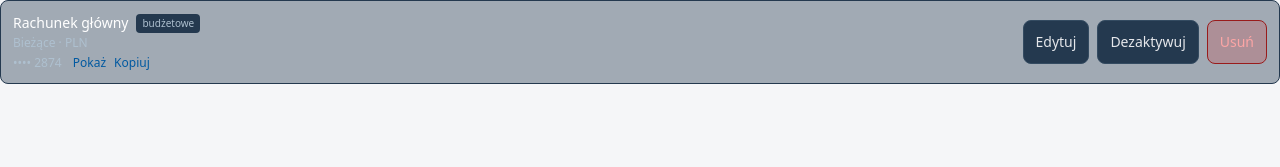
it: AccountRow inactive accounts and IBAN copying › offers the IBAN for manual copying when the clipboard is unavailable
Click the button "Kopiuj".
click(132, 63)  # box x1=114 y1=55 x2=150 y2=71
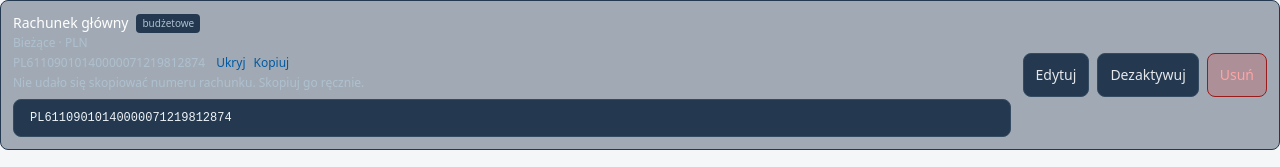
Expected: the message reads "Nie udało się skopiować numeru rachunku. Skopiuj go ręcznie.", x1=13 y1=74 x2=364 y2=91
Expected: the field named "Numer rachunku do ręcznego skopiowania" holds "PL61109010140000071219812874", x1=13 y1=99 x2=1010 y2=137
Expected: the button "Ukryj" is shown, x1=216 y1=55 x2=246 y2=71
